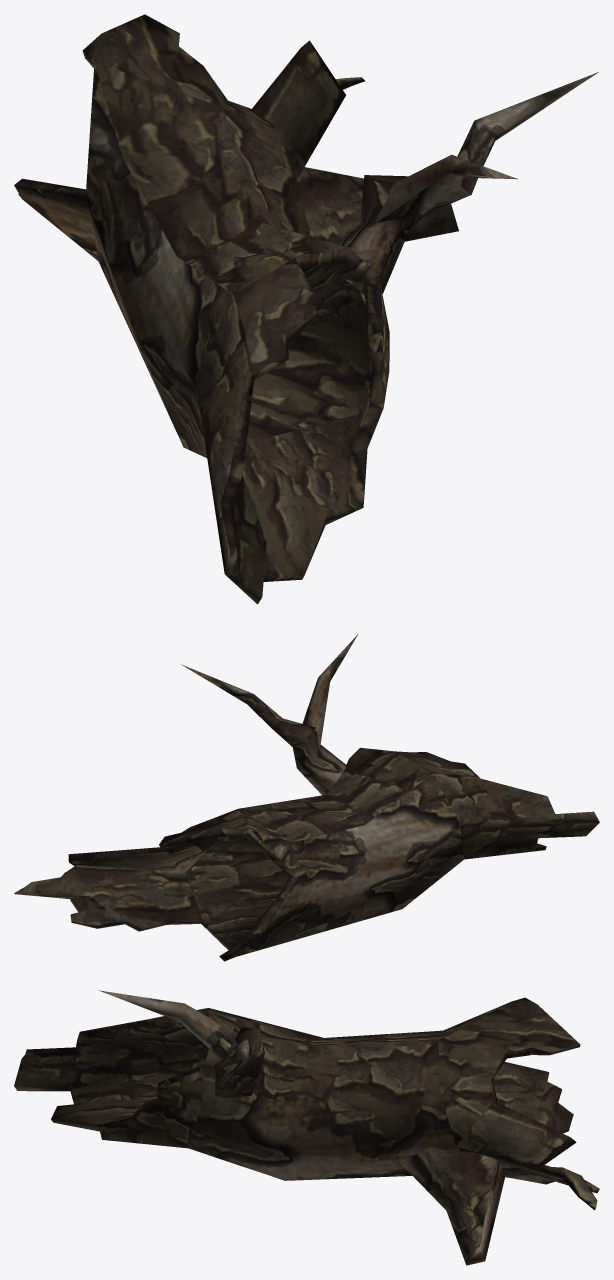
The model's file is C_shu006.fbx.
The picture shows the model from 3 angles, top to bottom: view 1: azimuth 30°, elevation 25°; view 2: azimuth 150°, elevation 25°; view 3: azimuth 270°, elevation 25°; orthographic projection. The views are drawn at different scales.
Visible parts, largest first — view 1: C_shu006; view 2: C_shu006; view 3: C_shu006.
Part boxes in pixels (x1,y1,x2,y2): C_shu006: (14,14,598,604); C_shu006: (14,634,599,961); C_shu006: (14,990,599,1265).
Bounding box in the file's own units: 399 × 215 × 531.
